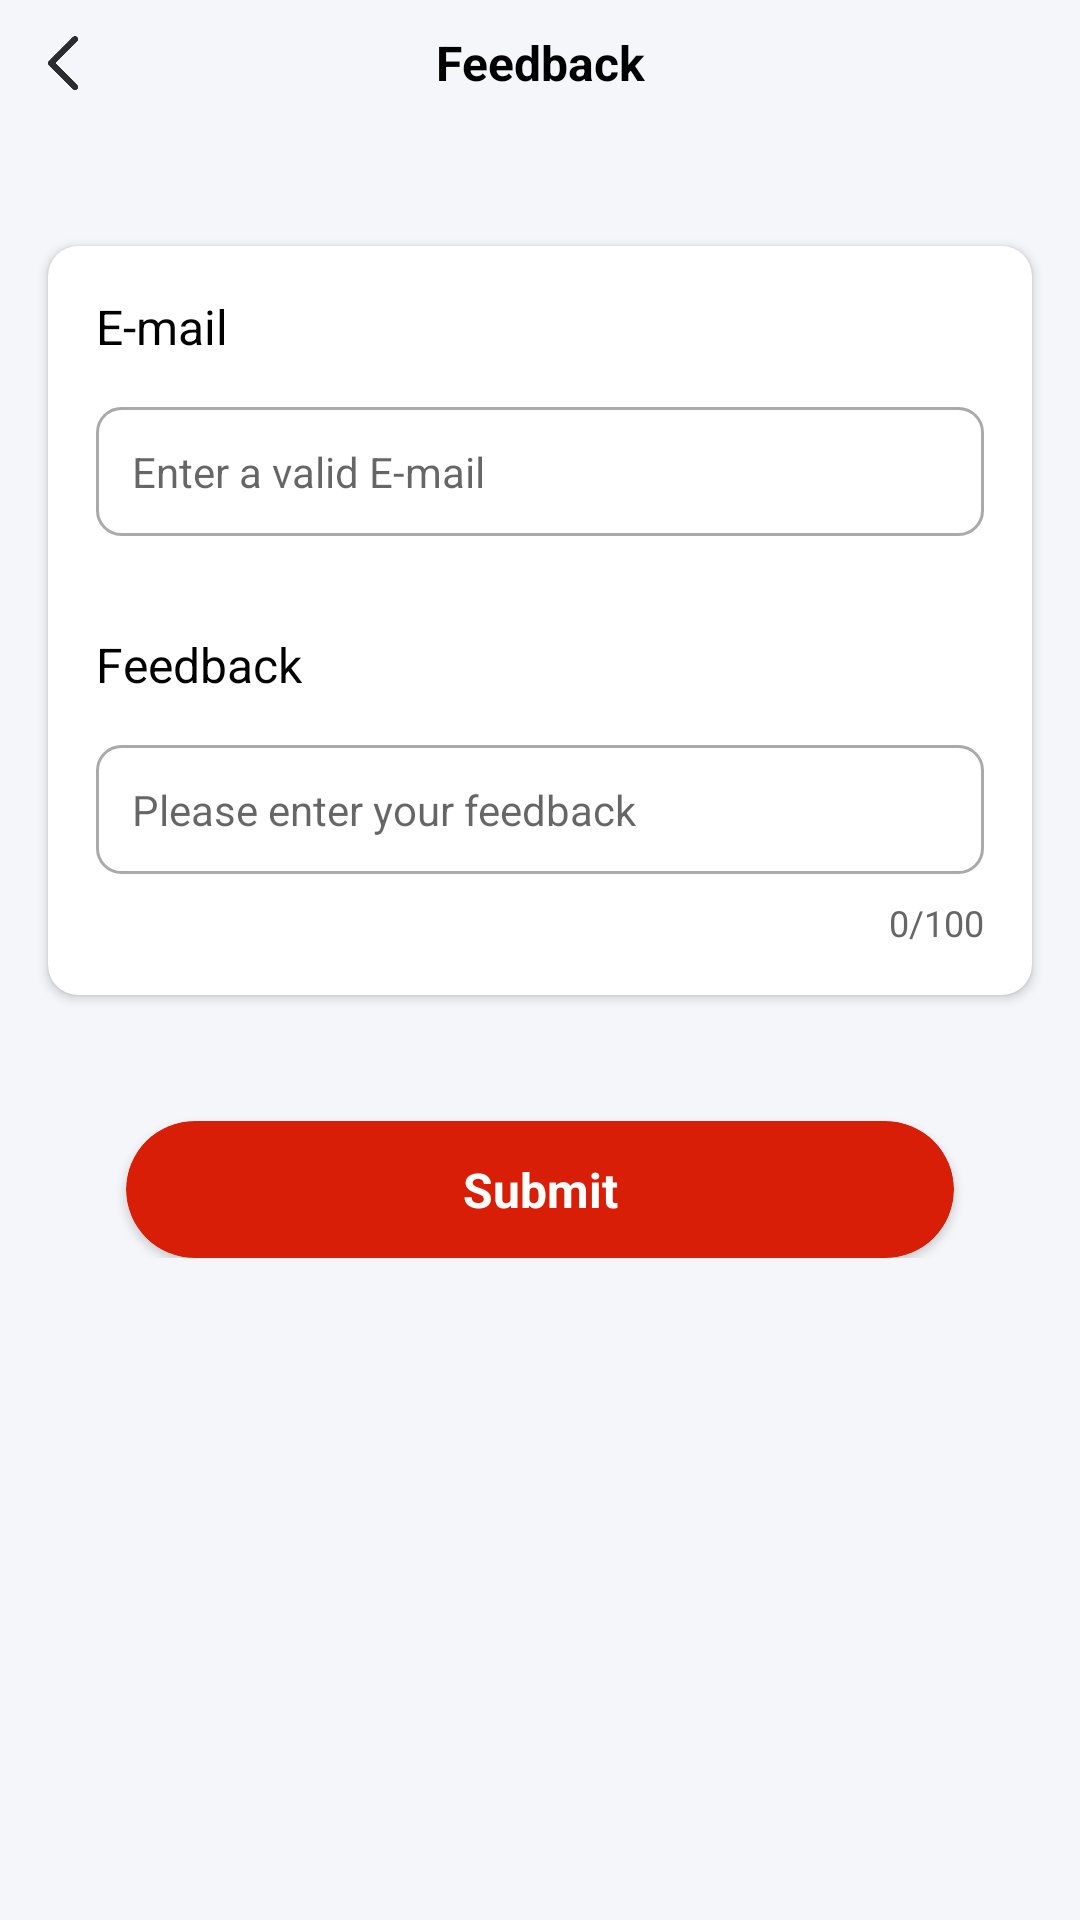

Named icons in this screenshot (1080 x 1920) and their centers, (x=x, y=y):
prev: (x=63, y=63)
